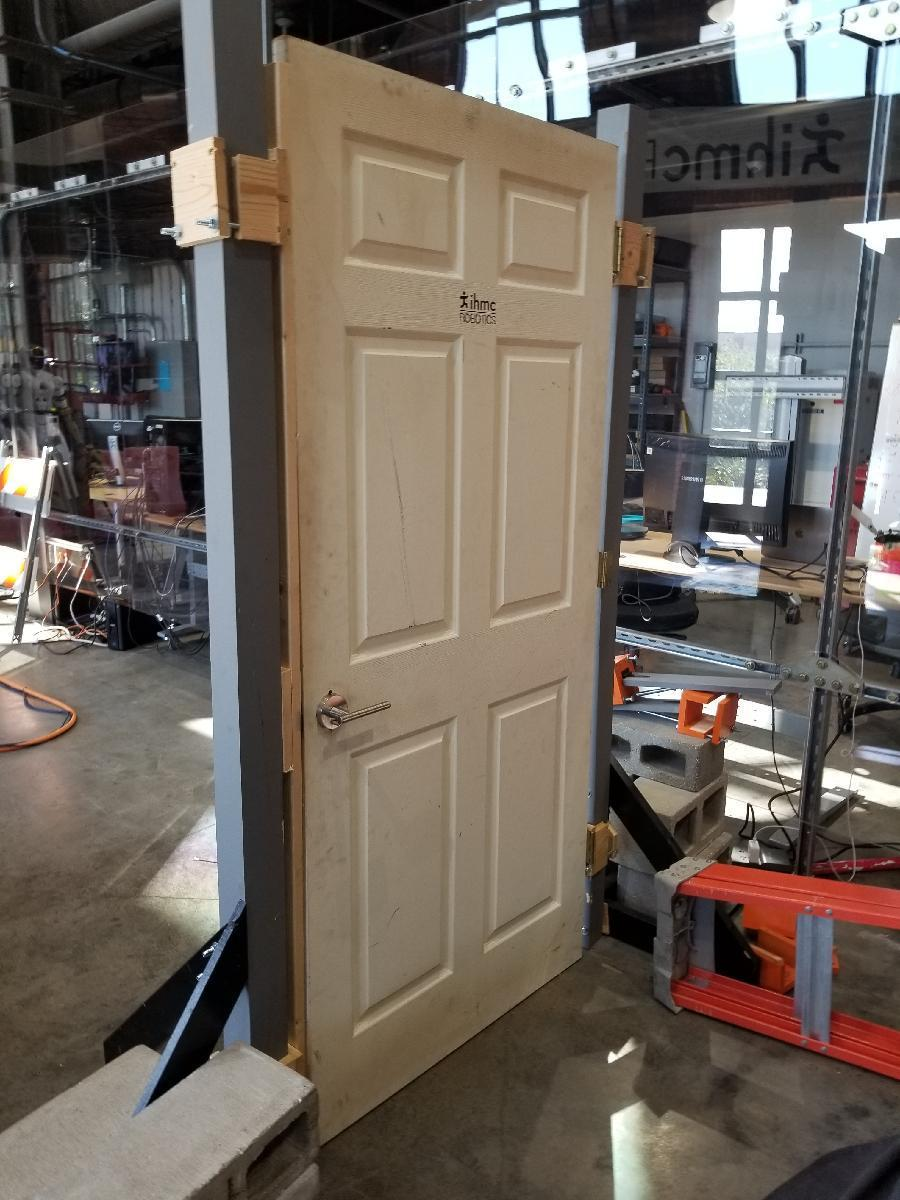door: (280, 38, 602, 1113)
handle: (310, 683, 398, 743)
